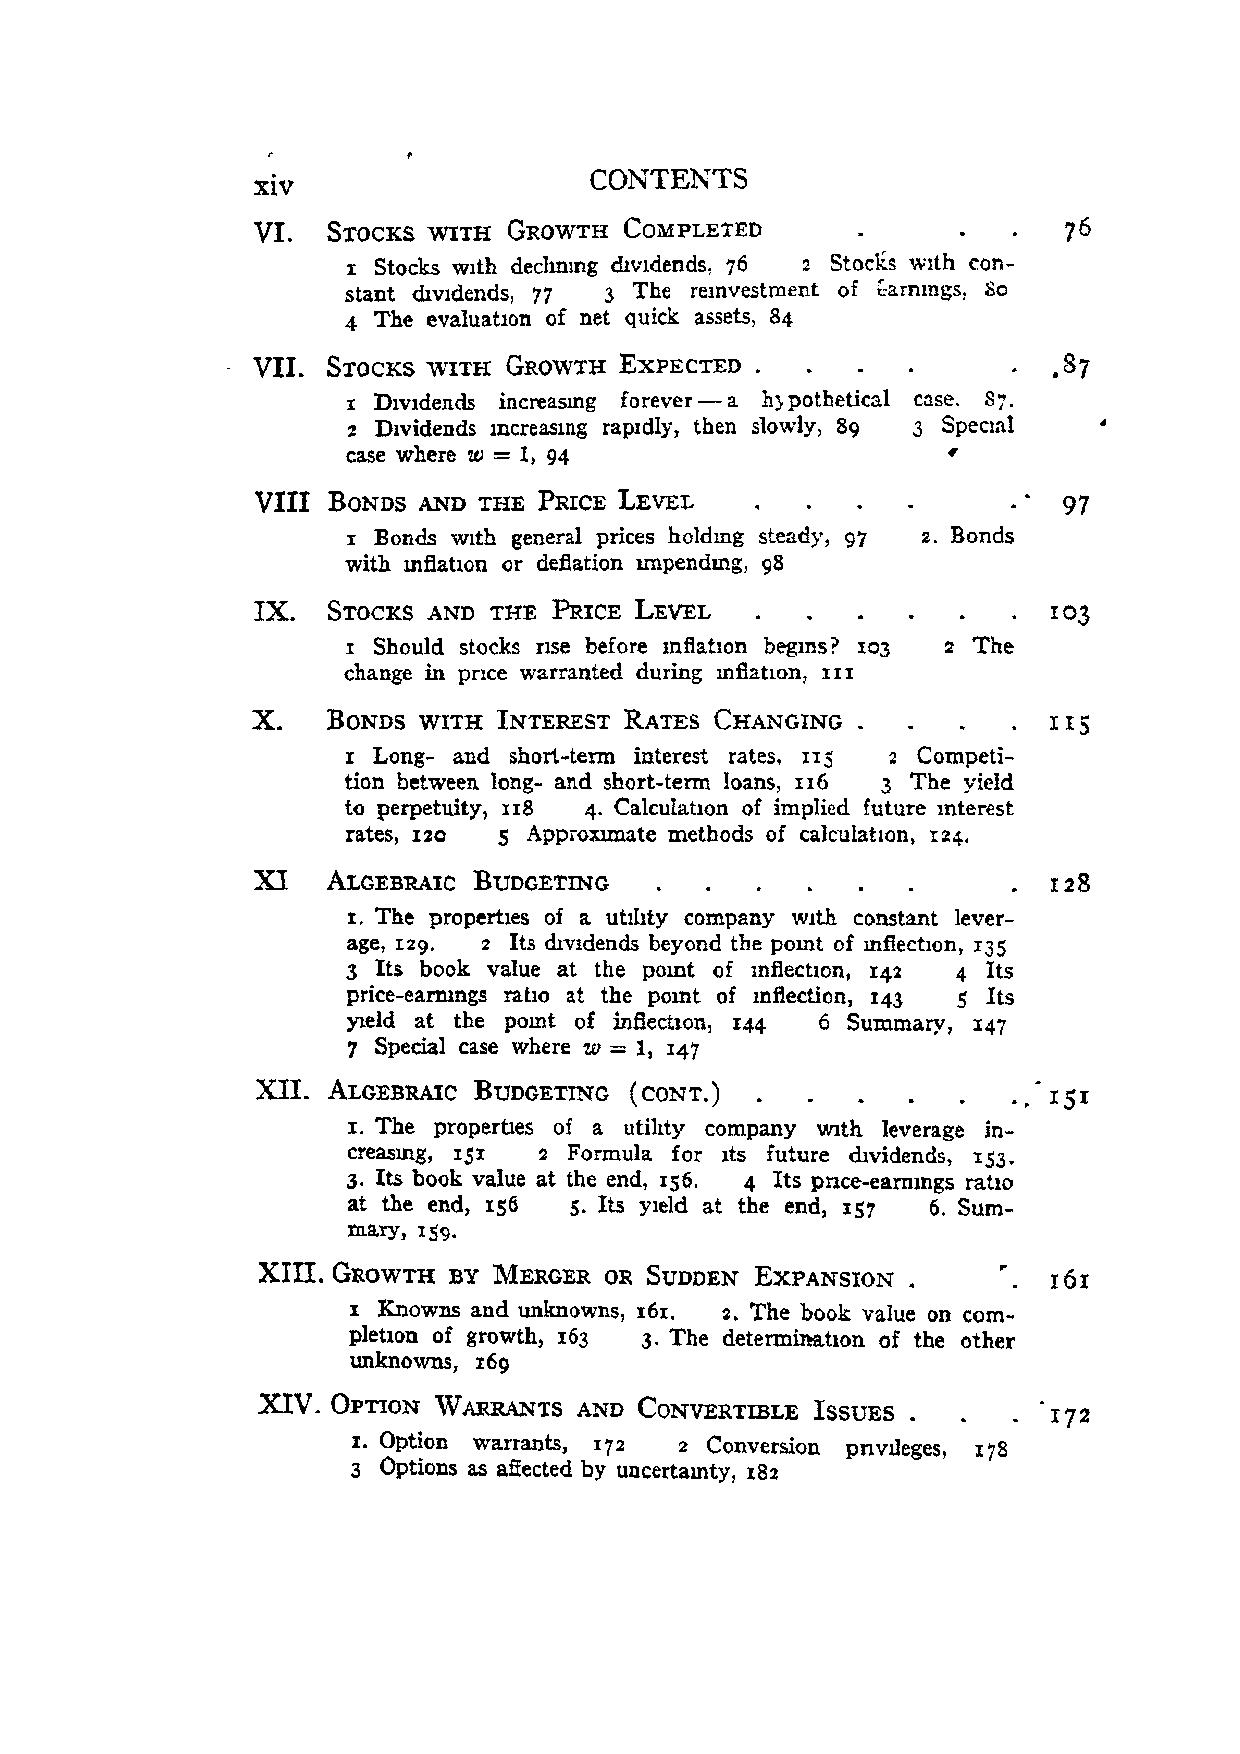TOC_chapter: (250, 862, 1017, 1060), (244, 1067, 1015, 1240), (242, 697, 1027, 859), (242, 212, 1015, 330), (256, 1255, 1020, 1373), (240, 348, 1024, 462), (260, 1381, 1008, 1495), (242, 580, 1019, 684), (240, 472, 1029, 574)
TOC_pagenumber: (1045, 1255, 1099, 1303), (1040, 1388, 1096, 1433), (1047, 699, 1095, 747), (1040, 596, 1092, 637), (1043, 1079, 1100, 1117), (1047, 859, 1092, 902), (1056, 482, 1092, 527), (1059, 340, 1088, 385), (1059, 209, 1092, 248)
chapter: (585, 162, 752, 193)
